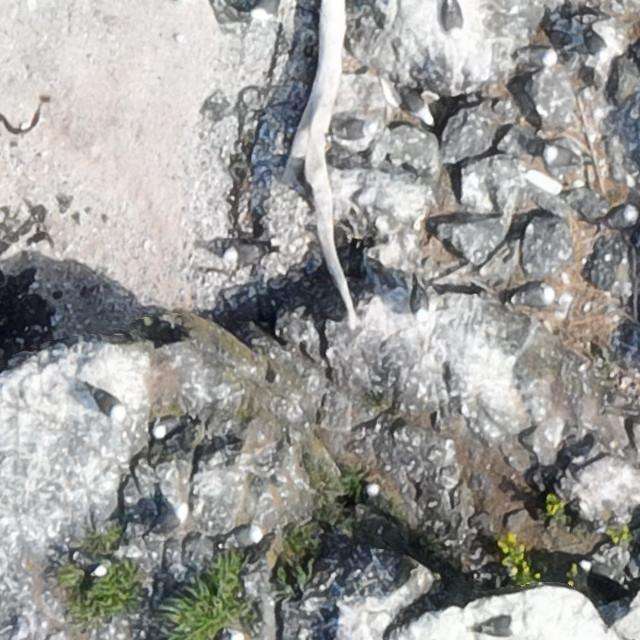umineko: (572, 560, 630, 594), (145, 502, 190, 544), (471, 611, 521, 640), (404, 82, 435, 125), (333, 120, 379, 145), (582, 27, 611, 64), (543, 145, 584, 171), (72, 551, 108, 574), (90, 390, 120, 417), (517, 286, 554, 306), (224, 242, 263, 260), (227, 527, 261, 547), (606, 208, 637, 229), (153, 417, 181, 436), (523, 47, 553, 64), (446, 4, 461, 36), (412, 288, 427, 319), (365, 483, 382, 502)
